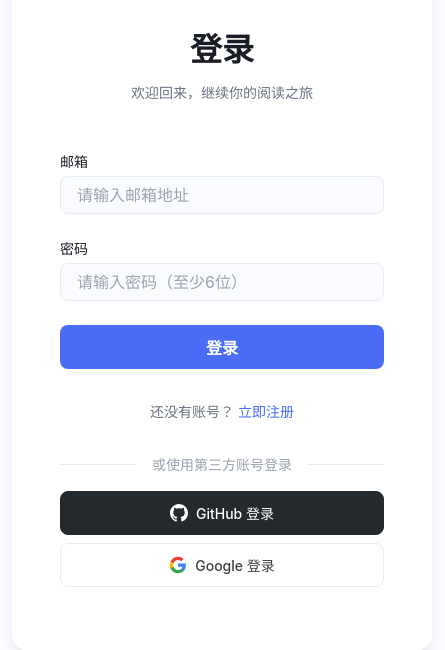
Test: LoginPage › shows error when register passwords do not match
The image size is (445, 650).
Note: Switch to register mode
Click the button with class "toggle-btn" at [266, 410], box [238,400,294,420]
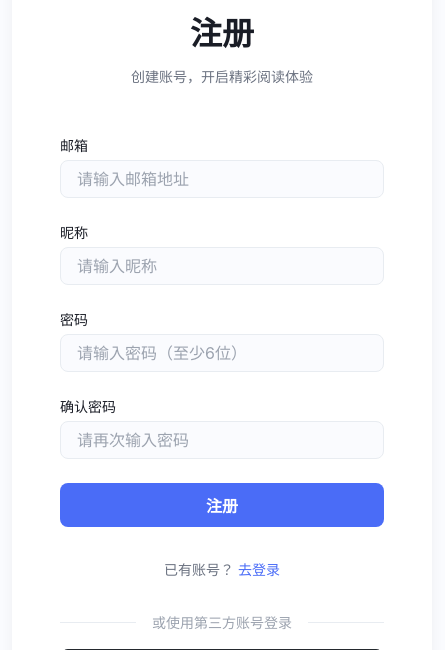
Type "test@example.com" into the field with id "email" at [222, 179], box [60,160,384,198]
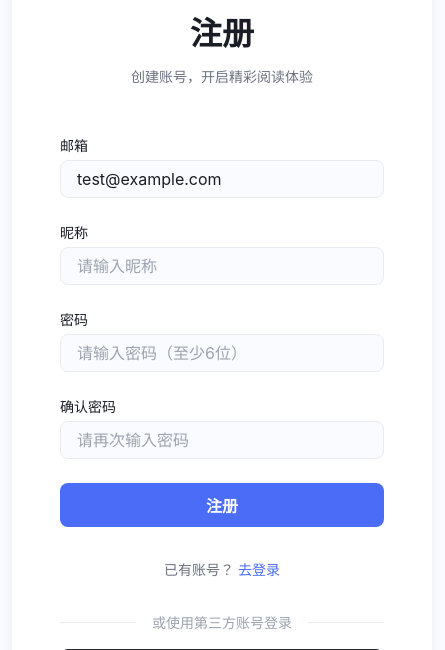
Type "Test" into the field with id "nickname" at [222, 266], box [60,247,384,285]
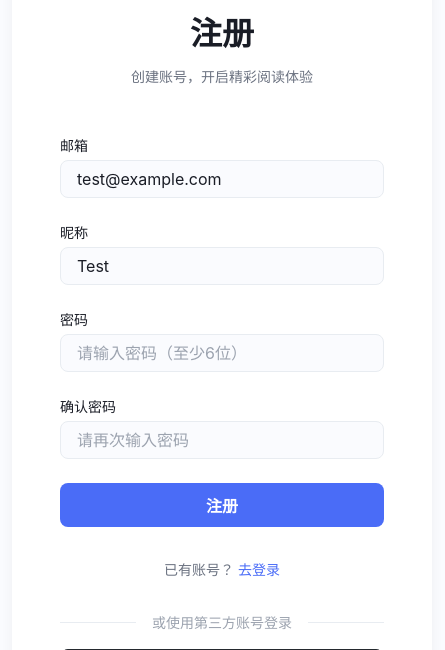
Type "123456" into the password field labelled "密码" at [222, 353], box [60,334,384,372]
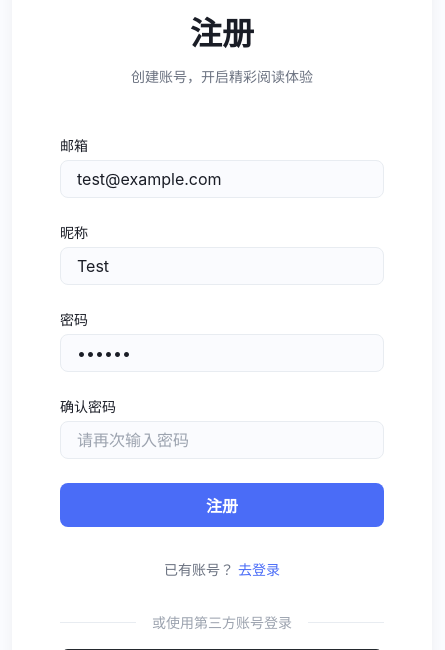
Type "654321" into the password field with id "confirmPassword" at [222, 440], box [60,421,384,459]
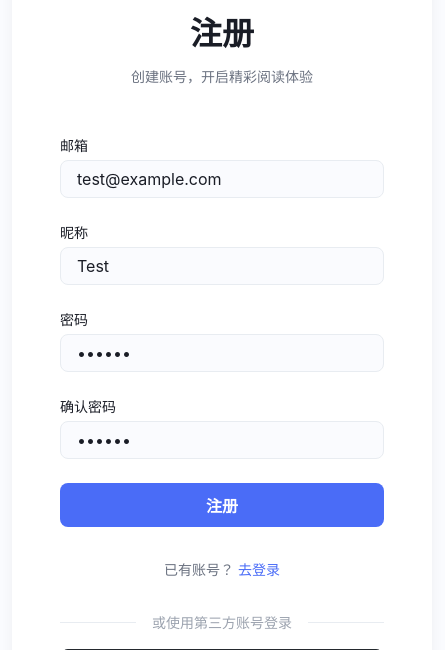
Submit the form, box [60,135,384,527]
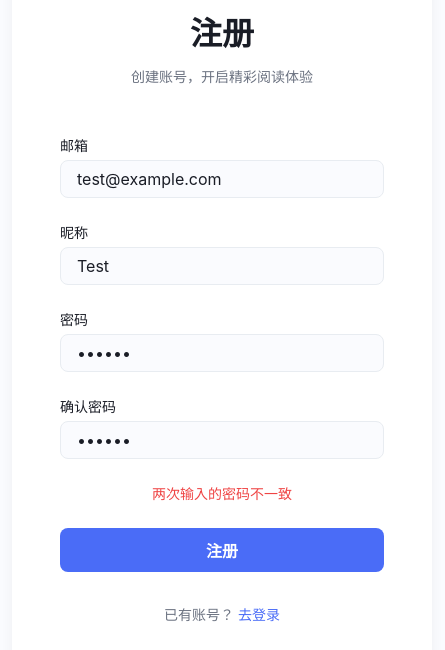
Expected: the message with class "form-error" reads "两次输入的密码不一致", [152,485,292,502]
